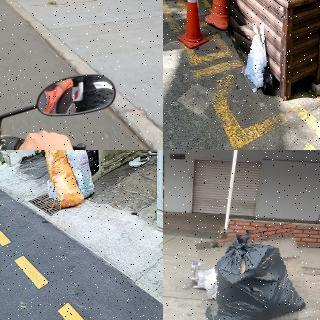Garbage: (200, 227, 308, 320), (45, 150, 82, 209), (237, 23, 269, 89), (71, 150, 97, 200), (258, 65, 276, 96)
